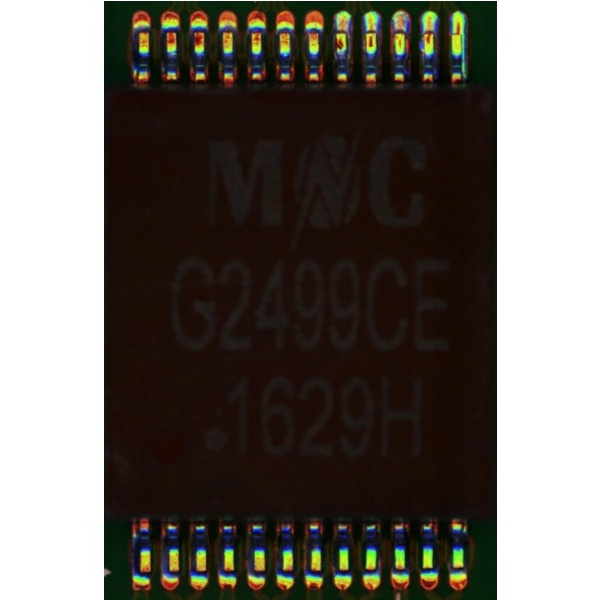Bad_podu: (393, 24, 405, 37), (335, 25, 346, 37), (365, 24, 375, 37), (454, 23, 461, 38), (424, 25, 432, 36)
Bad_qiaojiao: (461, 33, 467, 78), (345, 33, 352, 60)
